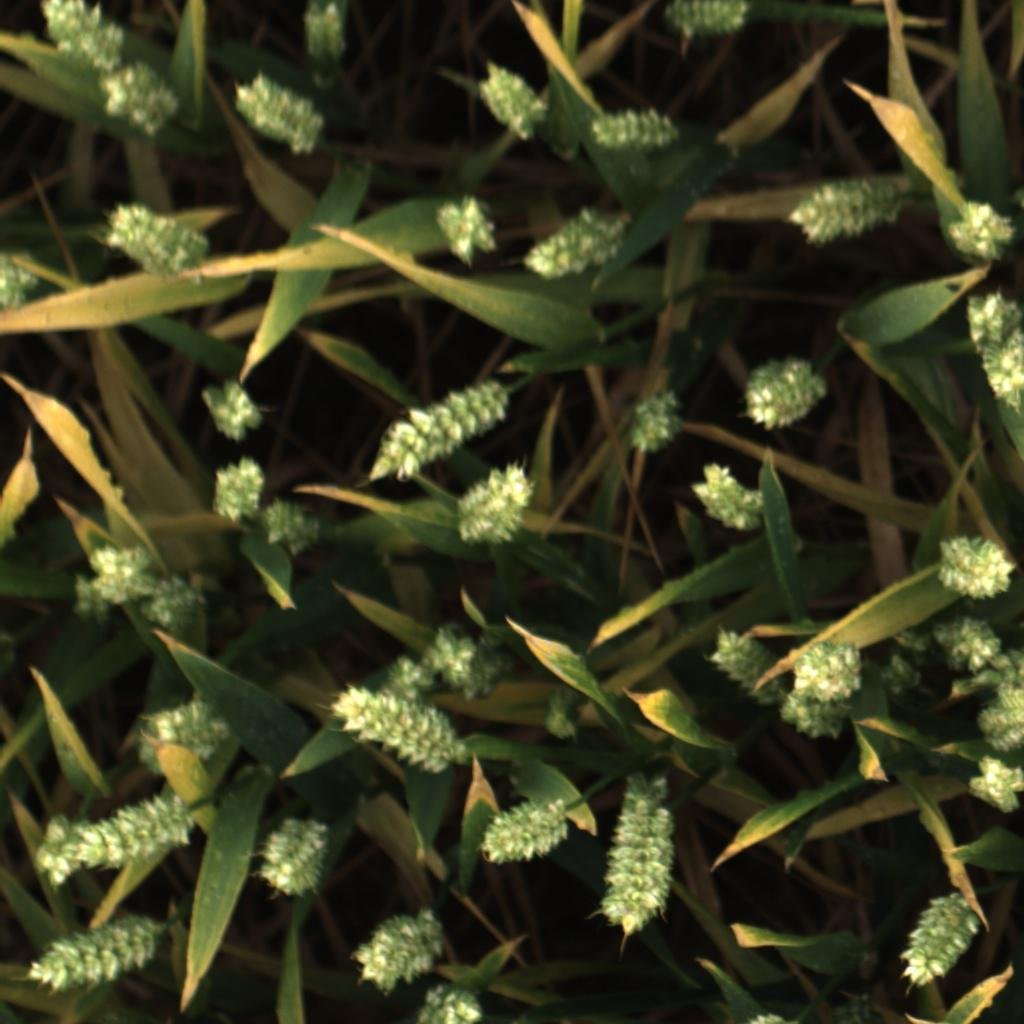0-0: (365, 365, 511, 487), (591, 773, 686, 945), (323, 681, 469, 775), (98, 192, 214, 288), (29, 909, 160, 993), (894, 882, 984, 994), (83, 790, 195, 876), (232, 66, 331, 163), (731, 350, 831, 445), (522, 200, 629, 285), (785, 172, 903, 249), (449, 458, 542, 554), (954, 290, 1024, 413), (350, 904, 442, 996), (31, 0, 134, 78), (477, 786, 568, 872), (132, 700, 233, 776), (90, 60, 185, 140), (705, 621, 786, 711), (250, 813, 332, 901), (685, 455, 774, 534), (420, 620, 505, 702), (932, 528, 1019, 608), (925, 612, 1023, 683), (132, 568, 220, 647), (472, 57, 549, 147), (772, 685, 869, 754), (80, 537, 168, 610), (193, 375, 275, 449), (793, 629, 878, 699), (587, 98, 679, 160), (947, 188, 1019, 267), (199, 455, 275, 529), (433, 191, 505, 269), (623, 382, 687, 464), (257, 491, 330, 561), (292, 0, 358, 68), (31, 811, 90, 887), (413, 974, 493, 1024), (966, 750, 1024, 815), (874, 637, 929, 705), (662, 0, 753, 41), (368, 644, 432, 698), (978, 684, 1024, 747), (0, 245, 33, 305)
